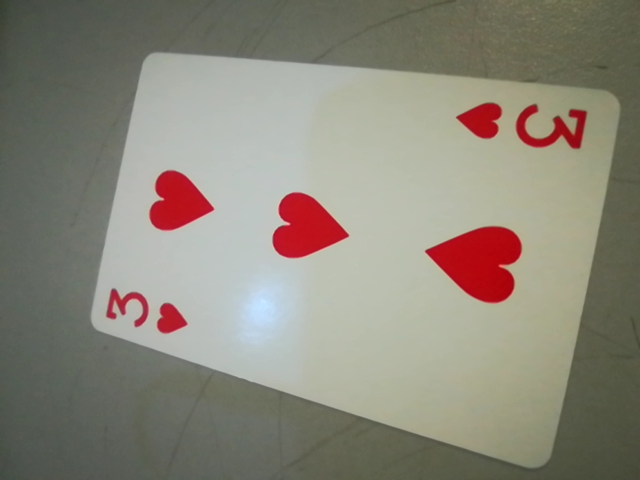hx 3: (463, 94, 604, 159)
